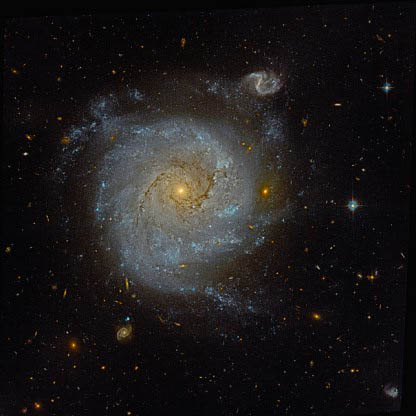NGC 1309: (66, 62, 329, 343)
